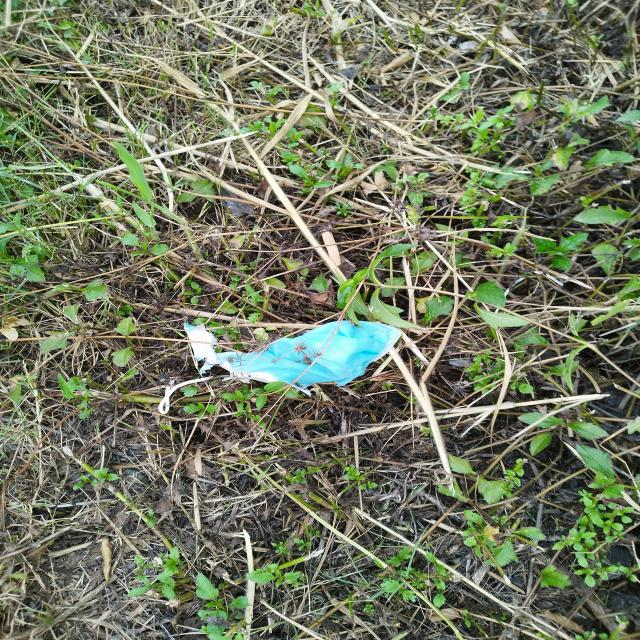mask: (157, 321, 403, 412)
